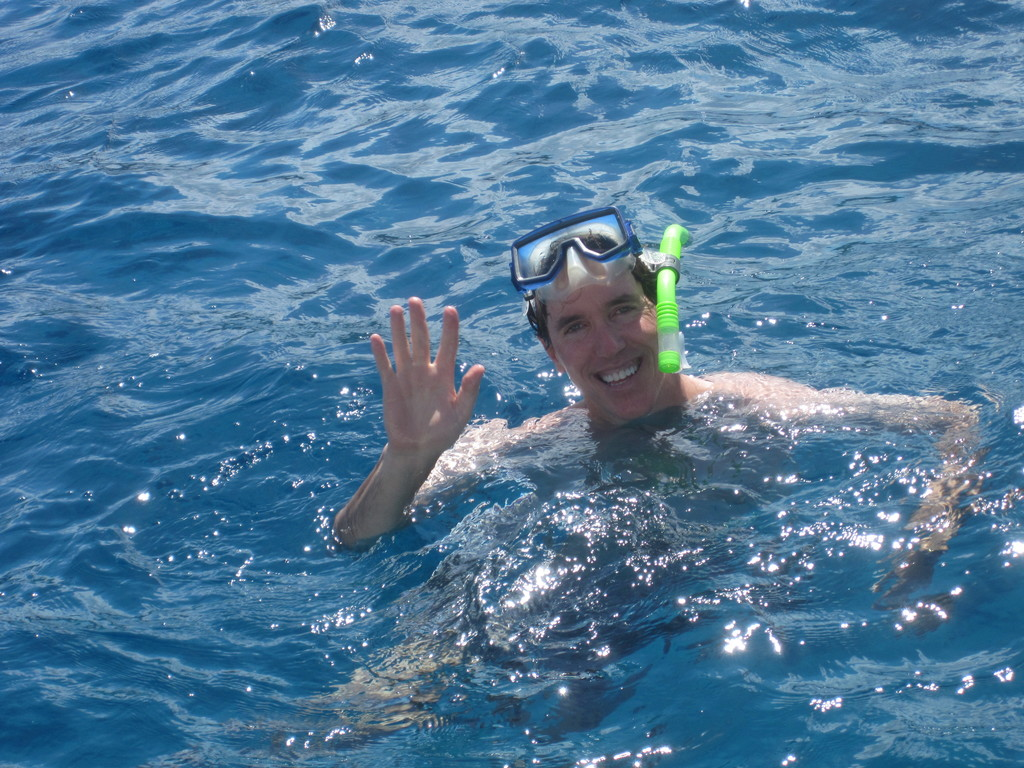Person: (333, 204, 990, 640)
